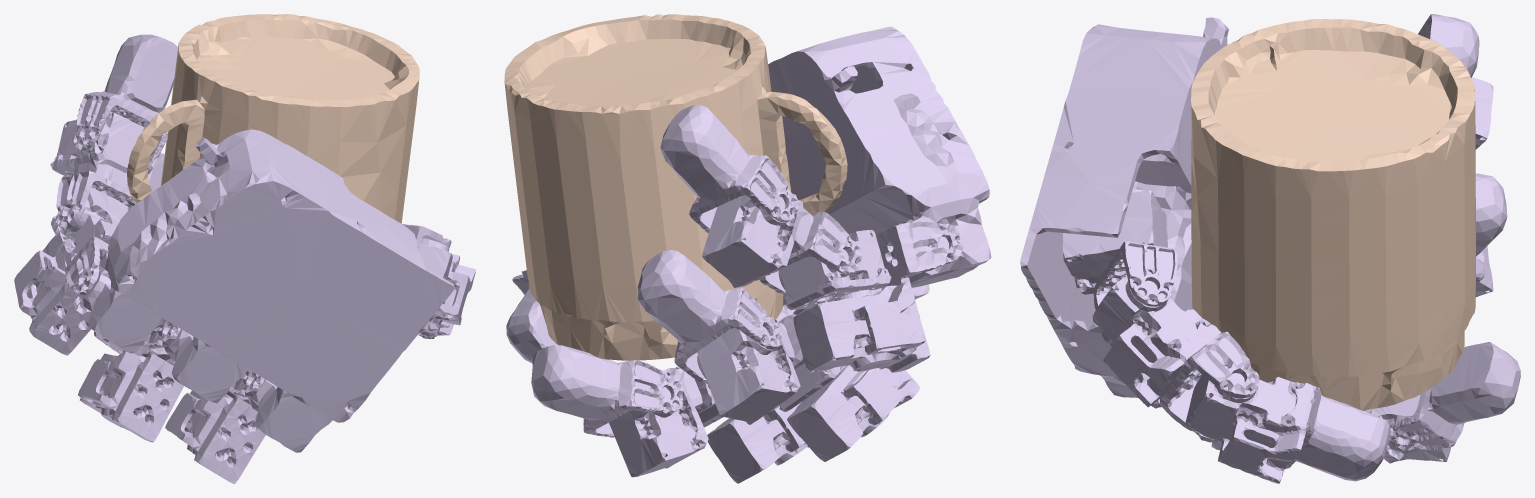
Rendered from 814afe597f3f5a-final.glb.
The picture shows the model from 3 angles, left to right: view 1: azimuth 30°, elevation 25°; view 2: azimuth 150°, elevation 25°; view 3: azimuth 270°, elevation 25°; orthographic projection. The views are drawn at different scales.
Visible parts, largest first — view 1: LEAP_hand, world; view 2: LEAP_hand, world; view 3: world, LEAP_hand.
Boxes of the visible parts, left/top/right/bottom form: LEAP_hand: left=14, top=34, right=475, bottom=483; world: left=127, top=14, right=419, bottom=223; LEAP_hand: left=506, top=26, right=991, bottom=483; world: left=504, top=14, right=847, bottom=360; world: left=1191, top=19, right=1475, bottom=410; LEAP_hand: left=1020, top=14, right=1520, bottom=483.
Bounding box in the file's own units: 0.1965 × 0.1796 × 0.1815.
